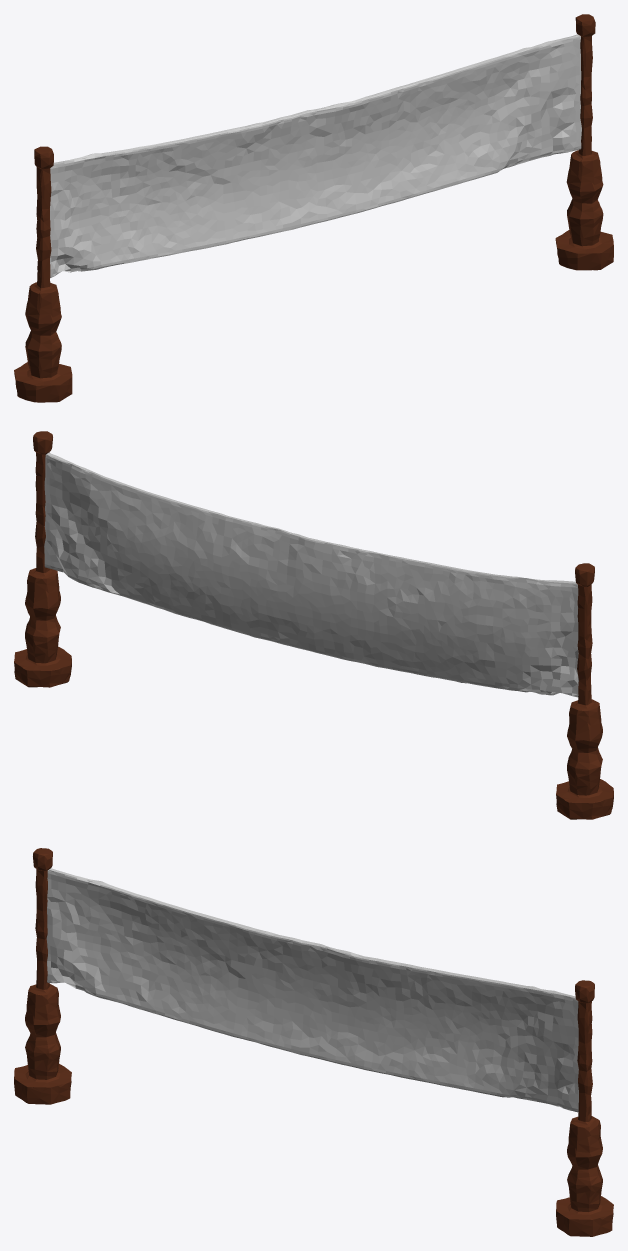
File: DesertLandSnakeFlag0088.obj
The picture shows the model from 3 angles, top to bottom: view 1: azimuth 30°, elevation 25°; view 2: azimuth 150°, elevation 25°; view 3: azimuth 330°, elevation 25°; orthographic projection.
Visible parts, largest first — view 1: Cube.003, Cube, Cube.002; view 2: Cube.003, Cube, Cube.002; view 3: Cube.003, Cube.002, Cube.
Boxes of the visible parts, <box> form: Cube.003: <box>50,34,581,277</box>; Cube: <box>14,146,72,402</box>; Cube.002: <box>555,14,613,270</box>; Cube.003: <box>44,452,578,697</box>; Cube: <box>556,563,613,819</box>; Cube.002: <box>14,431,71,687</box>; Cube.003: <box>46,868,578,1112</box>; Cube.002: <box>556,980,613,1236</box>; Cube: <box>14,848,71,1104</box>.
Bounding box in the file's own units: 27.57 × 10.7 × 2.57.
